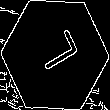L_SW: (29, 29, 81, 81)
